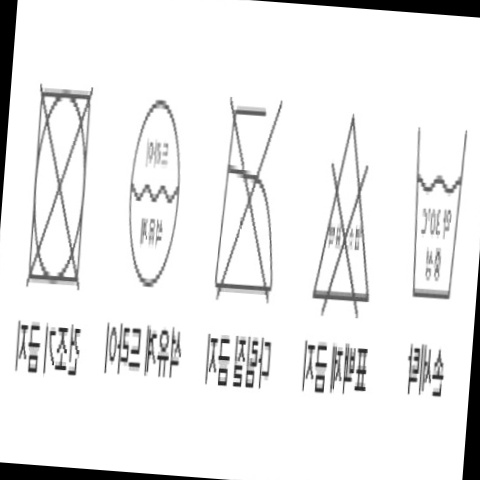30C: (394, 120, 475, 309)
DN_iron: (195, 90, 294, 313)
DN_tumble_dry: (16, 81, 106, 297)
dry_clean_petrol_only: (109, 99, 198, 294)
non_chlorine_bleach: (300, 109, 391, 323)
